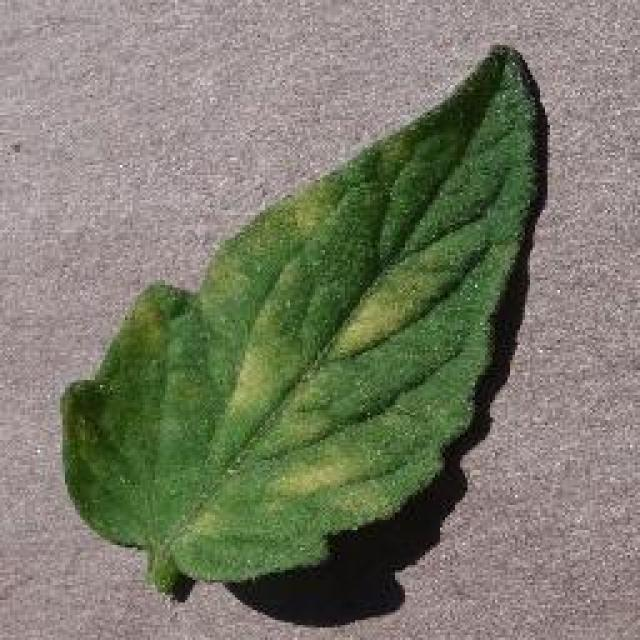Tomato mold leaf: (54, 44, 554, 591)
